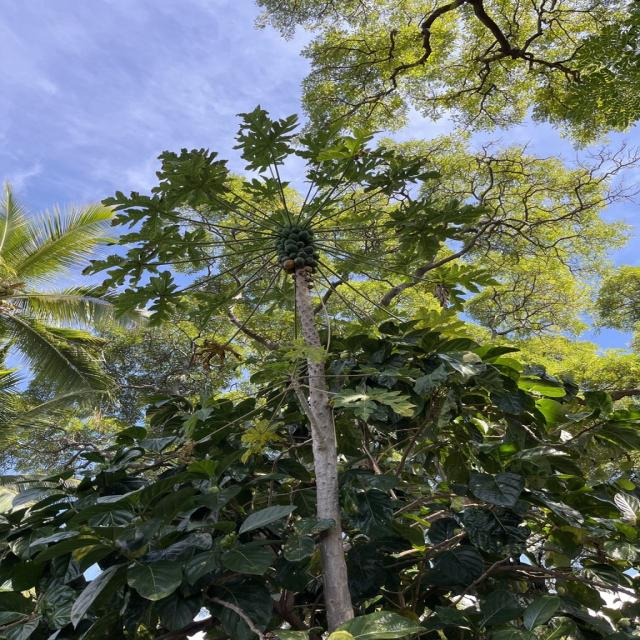Papaya-Tree: (90, 104, 465, 516)
